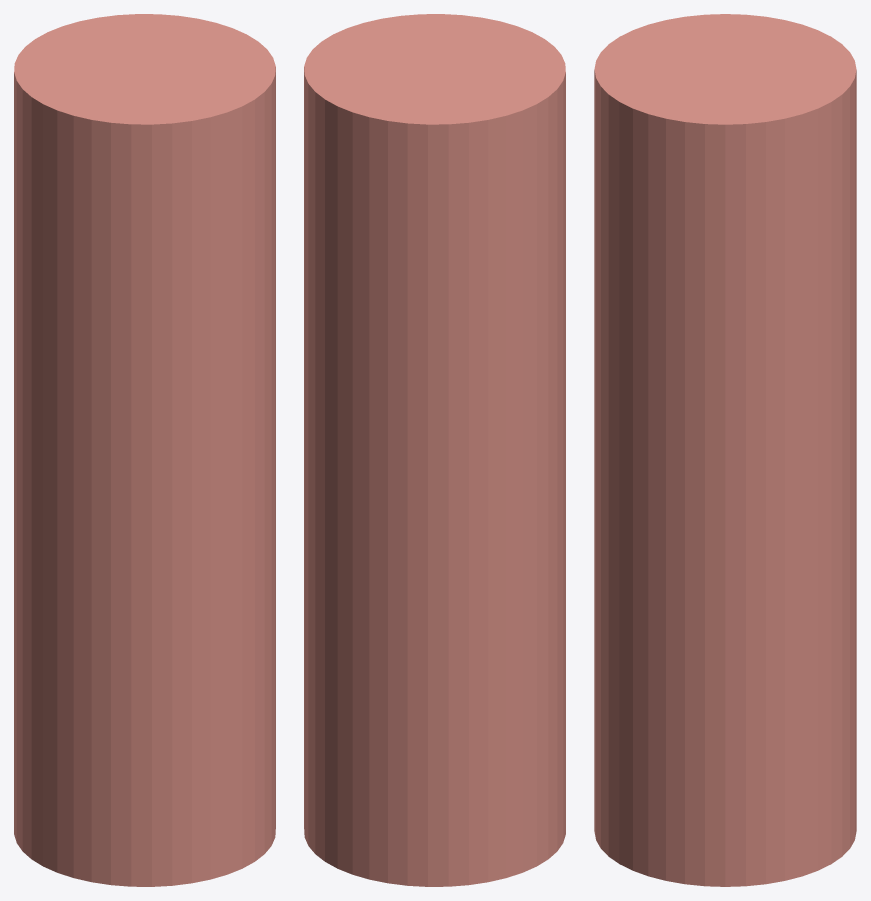
The model's file is gen_battery_02.glb.
3 renders of one model, left to right at view 1: azimuth 30°, elevation 25°; view 2: azimuth 150°, elevation 25°; view 3: azimuth 270°, elevation 25°, orthographic.
Visible parts, largest first — view 1: z-up-to-y-up; view 2: z-up-to-y-up; view 3: z-up-to-y-up.
Boxes of the visible parts, x1,y1,x2,y2 form: z-up-to-y-up: (14,14,275,886); z-up-to-y-up: (304,14,565,886); z-up-to-y-up: (594,14,856,886).
Size of the model in its own units: 0.0145 by 0.0467 by 0.0145.
